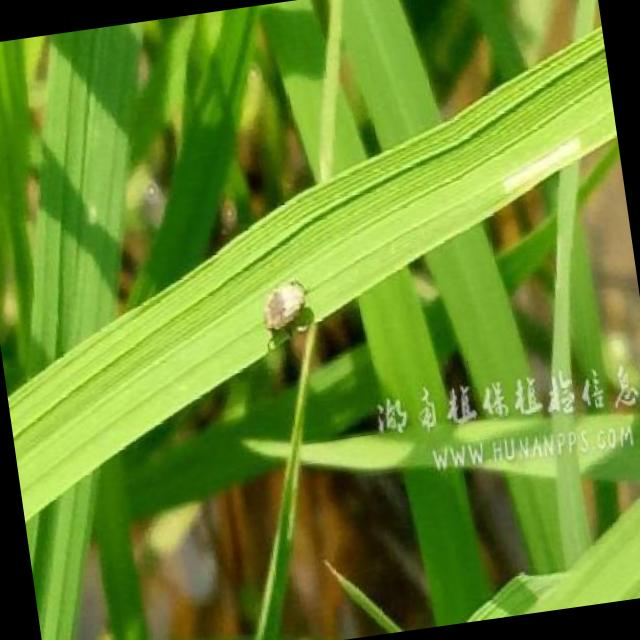rice-bug: (258, 272, 316, 344)
